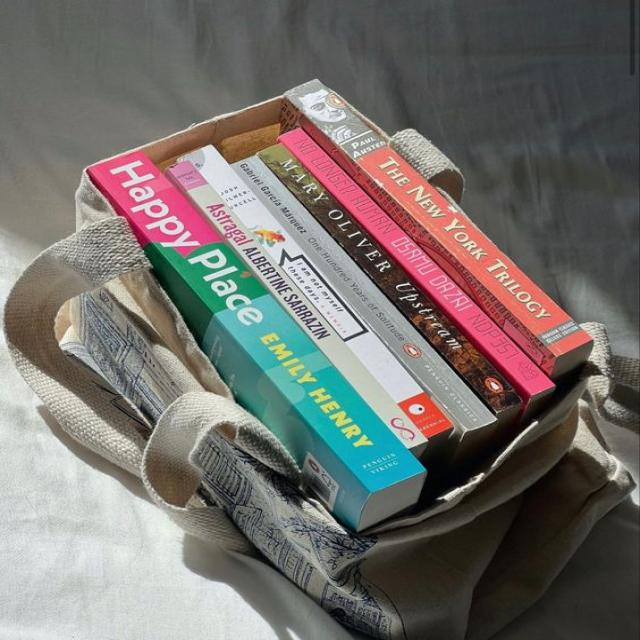book: (92, 150, 427, 494), (287, 80, 593, 356), (185, 143, 453, 439), (276, 128, 554, 395), (172, 161, 430, 446), (234, 157, 496, 433), (259, 143, 523, 414)
